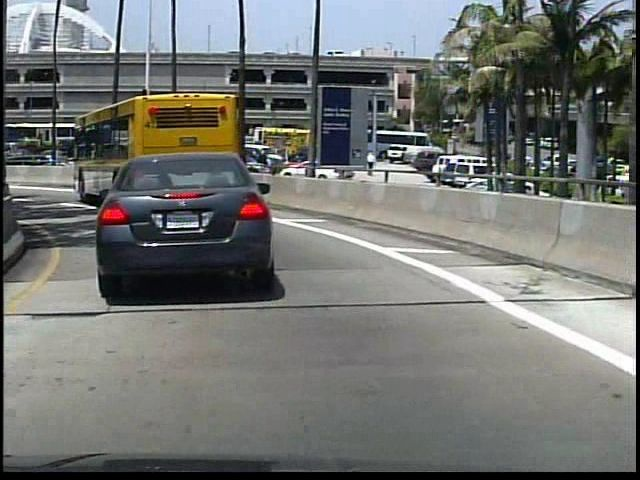person: (253, 147, 268, 179), (362, 148, 377, 179)
